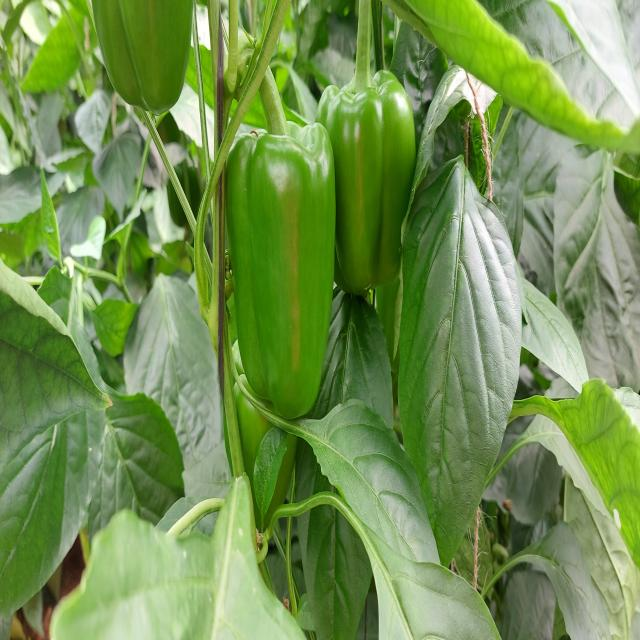Green--Not-ready-to-harvest: (221, 104, 340, 432), (324, 69, 421, 298), (84, 9, 194, 108)
